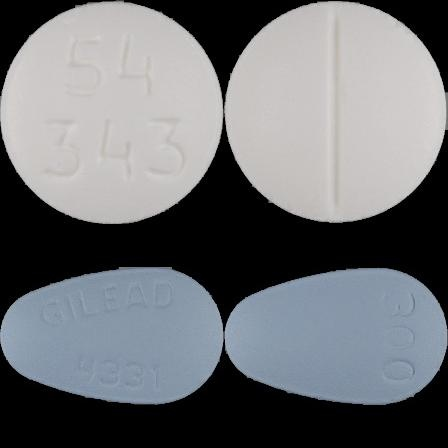61919-995: (0, 0, 224, 224)
